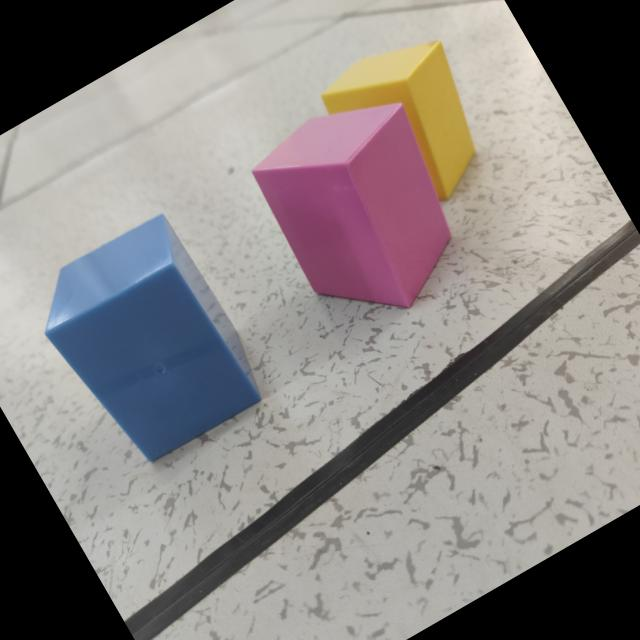blue: (45, 215, 263, 462)
pink: (253, 101, 454, 310)
yellow: (322, 41, 477, 202)
